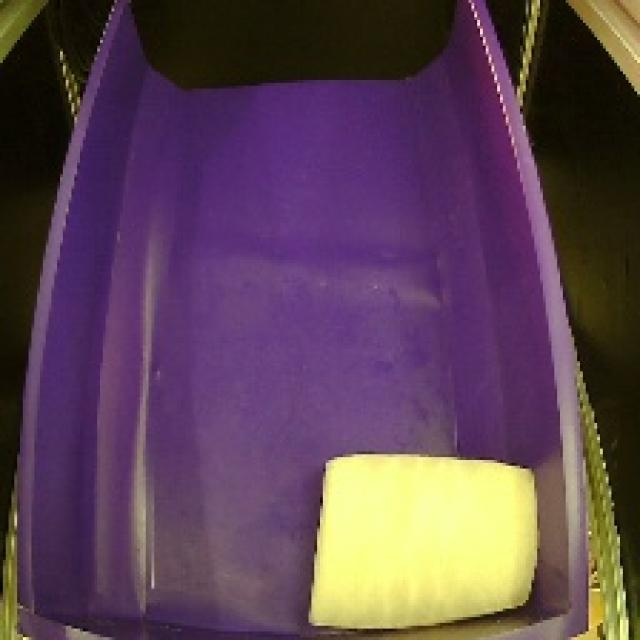white_radish: (293, 433, 548, 637)
